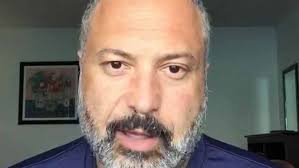middle_eastern_male: (91, 7, 203, 154)
